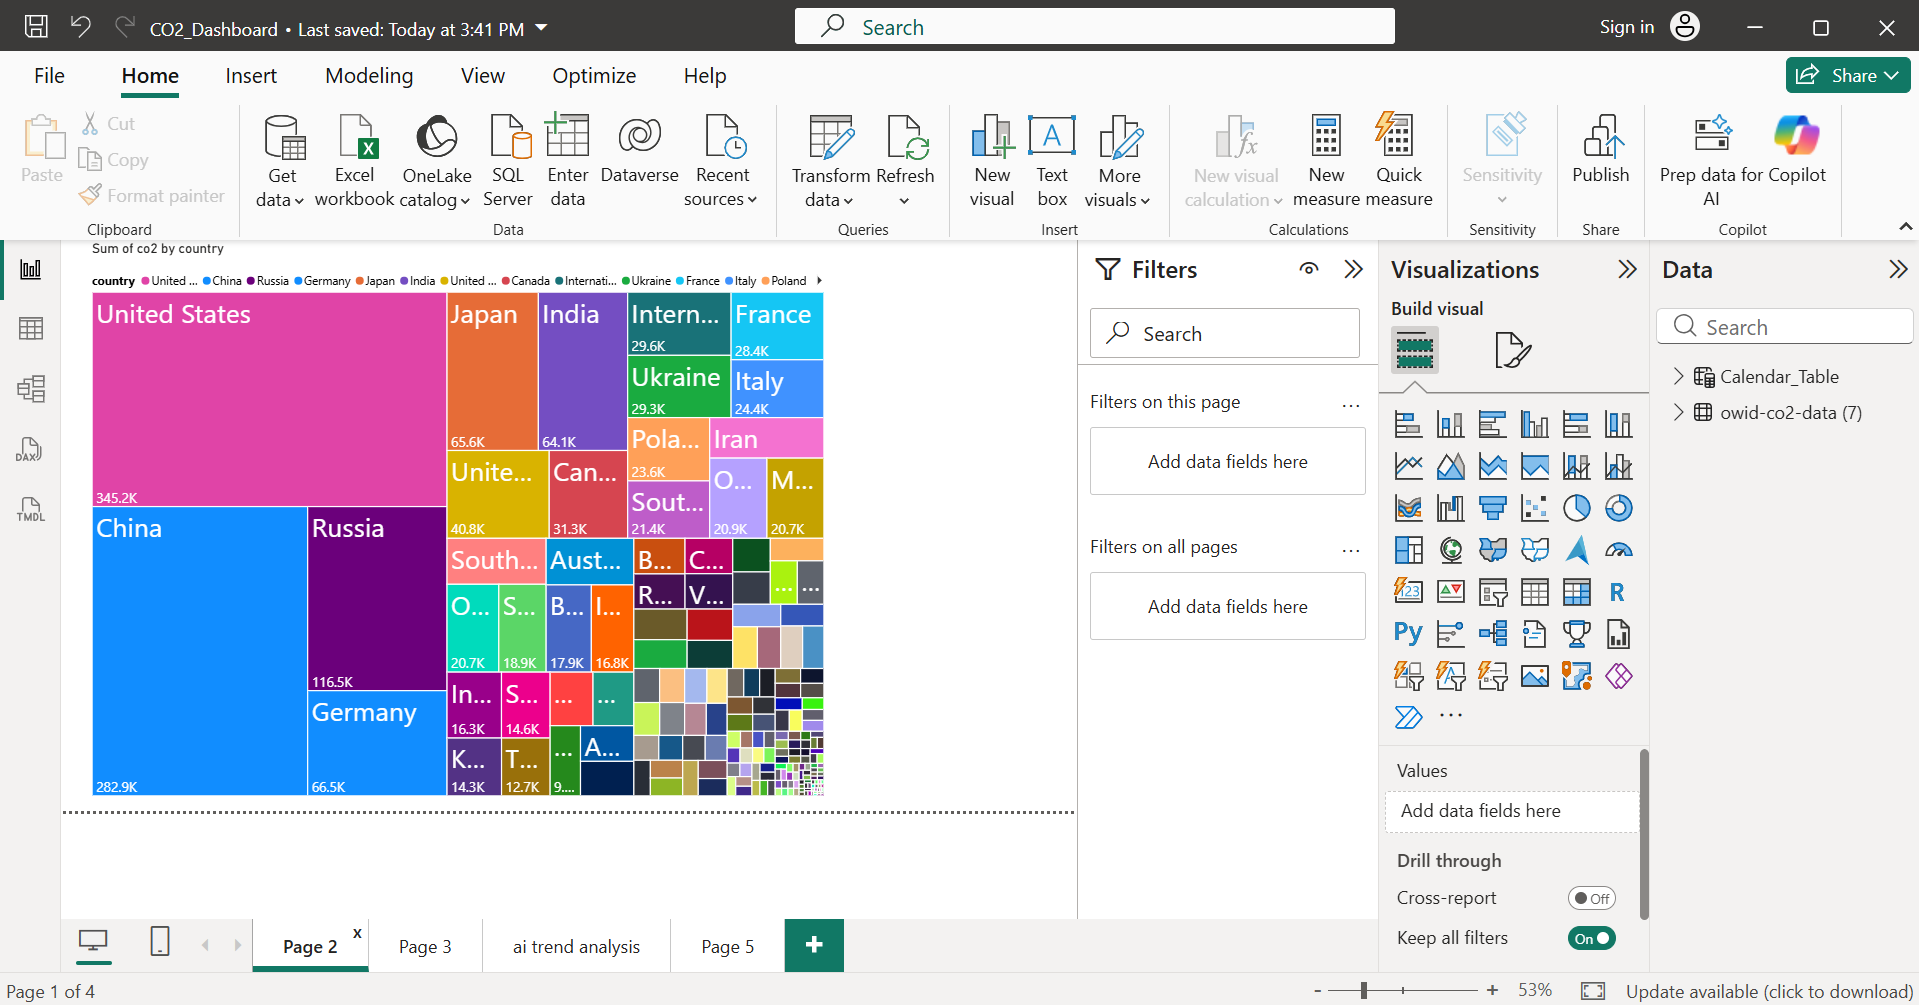

The page's visual inventory and layout, read from the dashboard file:
{"tool":"powerbi","page":{"name":"Page 2","canvas":[1280,720],"ordinal":0},"visuals":[{"type":"treemap","fields":{"Group":["owid-co2-data (7).country"],"Values":["Sum(owid-co2-data (7).co2)"]},"box":[33.3,0,931.7,705],"z":0}]}

Visuals, with their boxes on the page's 1280x720 design canvas (x1, y1, x2, y2). These are canvas units, not pixel positions in the 1919x1005 screenshot, which may show the page scaled, cropped or inside an application window:
treemap - owid-co2-data (7).country x Sum(owid-co2-data (7).co2): [33,0,965,705]
